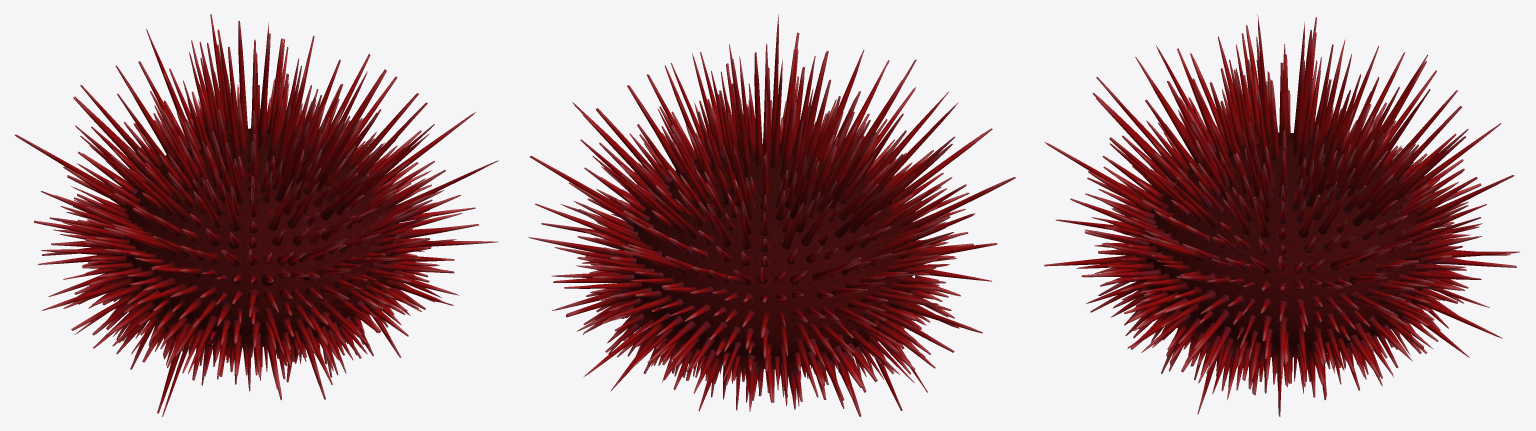
Rendered from Red_Sea_urchin_small.glb.
The picture shows the model from 3 angles, left to right: view 1: azimuth 30°, elevation 25°; view 2: azimuth 150°, elevation 25°; view 3: azimuth 270°, elevation 25°; orthographic projection. The views are drawn at different scales.
Parts seen in each view (by area): view 1: node_id5; view 2: node_id5; view 3: node_id5.
Part boxes in pixels (bbox=[...]): node_id5: bbox=[15, 14, 498, 416]; node_id5: bbox=[528, 14, 1015, 416]; node_id5: bbox=[1044, 14, 1519, 416].
Bounding box in the file's own units: 0.0735 × 0.0587 × 0.0687.
1 material, 1 textured.
